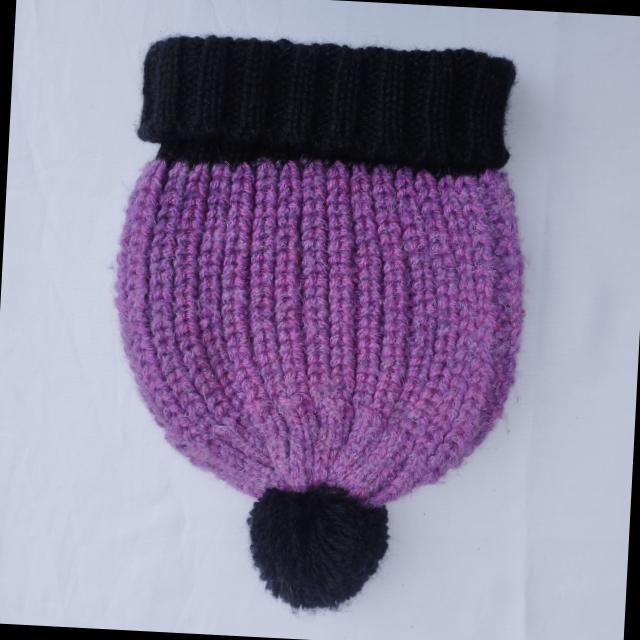Gorro: (95, 29, 540, 621)
